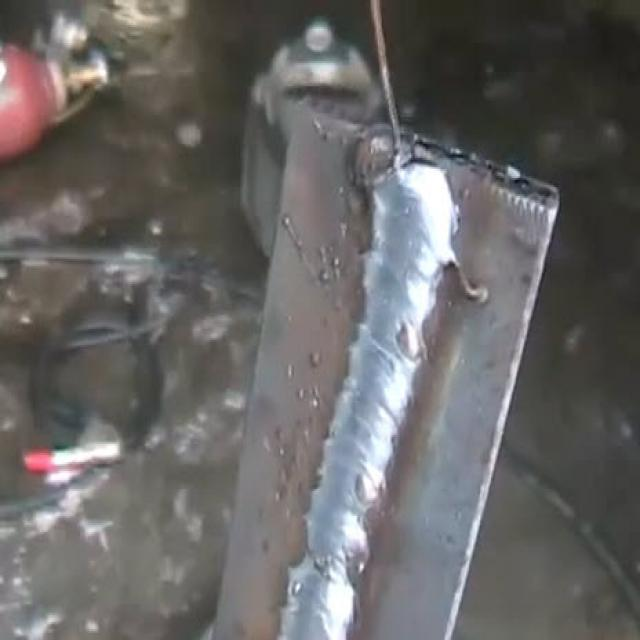Good Weld: (294, 192, 424, 638)
